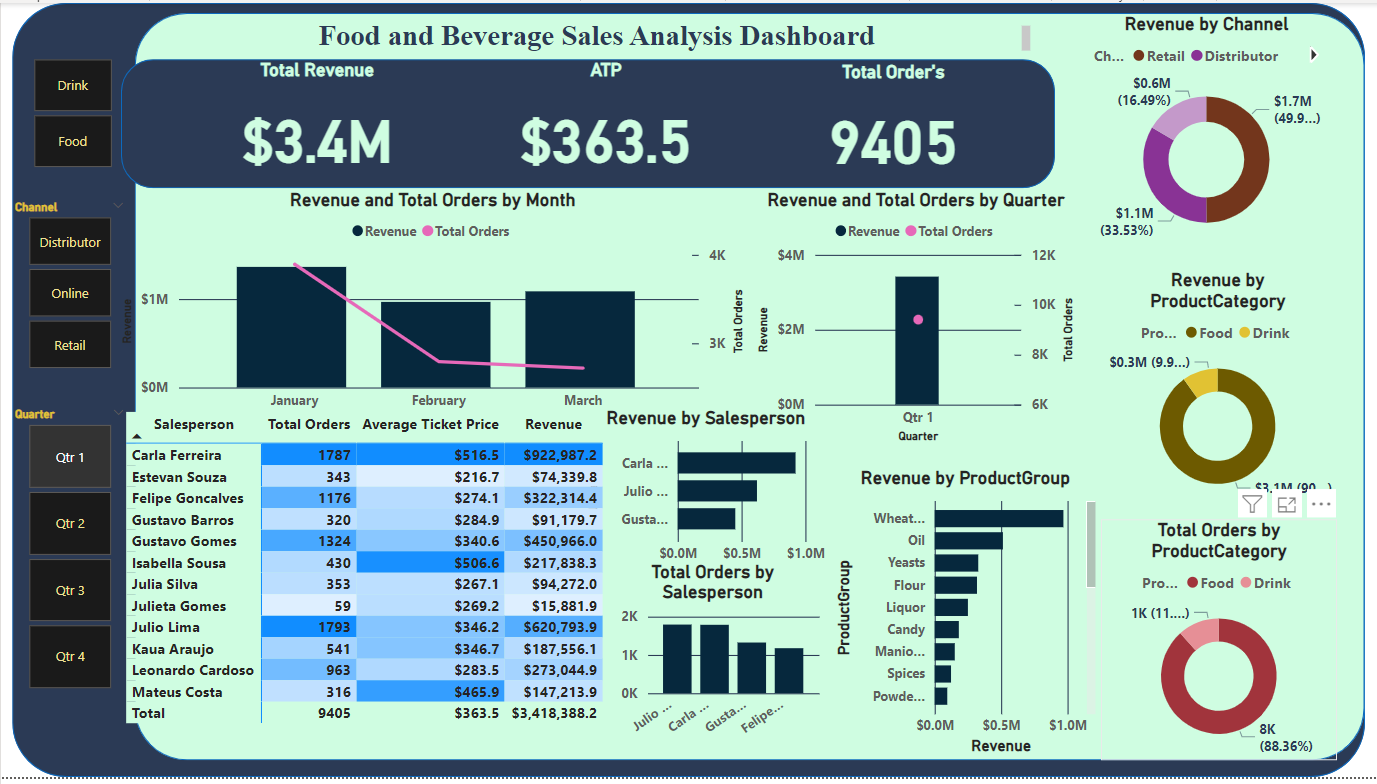

The dashboard page shown, as its layout file describes it:
{"tool":"powerbi","page":{"name":"Page 1","canvas":[1280,720],"ordinal":0},"visuals":[{"type":"shape","box":[10.5,0,1258.1,719.8],"z":0},{"type":"shape","box":[124.4,9.3,1144.2,695.4],"z":1000},{"type":"shape","box":[111.6,52.3,868.6,119.8],"z":2000},{"type":"card","title":"Total Revenue","fields":{"Values":["Product.Revenue"]},"box":[144.2,52.3,300,119.8],"z":3000},{"type":"card","title":"ATP","fields":{"Values":["Product.Average Ticket Price"]},"box":[412.2,52.3,300,119.8],"z":4000},{"type":"card","title":"Total Order''s","fields":{"Values":["Product.Total Orders"]},"box":[680.2,53.5,300,119.8],"z":5000},{"type":"donutChart","fields":{"Y":["Product.Revenue"],"Category":["Sheet1.Channel"]},"box":[1011.6,9.3,219.8,224.4],"z":6000},{"type":"donutChart","fields":{"Y":["Product.Revenue"],"Category":["Product.ProductCategory"]},"box":[1022.1,247.7,219.8,224.4],"z":7000},{"type":"donutChart","fields":{"Category":["Product.ProductCategory"],"Y":["Product.Total Orders"]},"box":[1023.3,480.2,219.8,224.4],"z":8000},{"type":"lineClusteredColumnComboChart","fields":{"Y":["Product.Revenue"],"Y2":["Product.Total Orders"],"Category":["Sheet1.OrderDate.Variation.Date Hierarchy.Quarter"]},"box":[698.5,172.9,304.6,240.1],"z":9000},{"type":"barChart","fields":{"Y":["Product.Revenue"],"Category":["Product.ProductGroup"]},"box":[770.9,431.4,252.3,273.3],"z":10000},{"type":"lineClusteredColumnComboChart","fields":{"Y":["Product.Revenue"],"Y2":["Product.Total Orders"],"Category":["Sheet1.OrderDate.Variation.Date Hierarchy.Month"]},"box":[107,173.3,589.5,224.4],"z":11000},{"type":"barChart","fields":{"Y":["Product.Revenue"],"Category":["Sheet1.Salesperson"]},"box":[540.7,375.6,230.2,154.7],"z":12000},{"type":"clusteredColumnChart","fields":{"Y":["Product.Total Orders"],"Category":["Sheet1.Salesperson"]},"box":[558.1,518.6,208.1,174.4],"z":12001},{"type":"pivotTable","fields":{"Rows":["Sheet1.Salesperson"],"Values":["Product.Total Orders","Product.Average Ticket Price","Product.Revenue"]},"box":[111.6,375.6,459.3,317.4],"z":12002},{"type":"slicer","fields":{"Values":["Product.ProductCategory"]},"box":[4.1,45.3,122.1,113.9],"z":12003},{"type":"slicer","fields":{"Values":["Sheet1.Channel"]},"box":[0,178.4,126.2,168.8],"z":12004},{"type":"slicer","fields":{"Values":["Sheet1.OrderDate.Variation.Date Hierarchy.Quarter"]},"box":[0,370.9,126.7,273.3],"z":12005},{"type":"textbox","box":[153.5,16.3,809.3,36],"z":12006}]}

Visuals, with their boxes in screenshot pixels (x1, y1, x2, y2), scaled from the page's 1280x720 canvas onto the 1377x784 screenshot:
shape: (left=11, top=0, right=1365, bottom=783)
shape: (left=134, top=10, right=1365, bottom=767)
shape: (left=120, top=57, right=1054, bottom=187)
"Total Revenue" card: (left=155, top=57, right=478, bottom=187)
"ATP" card: (left=443, top=57, right=766, bottom=187)
"Total Order''s" card: (left=732, top=58, right=1054, bottom=189)
donutChart - Product.Revenue x Sheet1.Channel: (left=1088, top=10, right=1325, bottom=254)
donutChart - Product.Revenue x Product.ProductCategory: (left=1100, top=270, right=1336, bottom=514)
donutChart - Product.ProductCategory x Product.Total Orders: (left=1101, top=523, right=1337, bottom=767)
lineClusteredColumnComboChart - Product.Revenue x Product.Total Orders: (left=751, top=188, right=1079, bottom=450)
barChart - Product.Revenue x Product.ProductGroup: (left=829, top=470, right=1101, bottom=767)
lineClusteredColumnComboChart - Product.Revenue x Product.Total Orders: (left=115, top=189, right=749, bottom=433)
barChart - Product.Revenue x Sheet1.Salesperson: (left=582, top=409, right=829, bottom=577)
clusteredColumnChart - Product.Total Orders x Sheet1.Salesperson: (left=600, top=565, right=824, bottom=755)
pivotTable - Sheet1.Salesperson x Product.Total Orders: (left=120, top=409, right=614, bottom=755)
slicer - Product.ProductCategory: (left=4, top=49, right=136, bottom=173)
slicer - Sheet1.Channel: (left=0, top=194, right=136, bottom=378)
slicer - Sheet1.OrderDate.Variation.Date Hierarchy.Quarter: (left=0, top=404, right=136, bottom=701)
textbox: (left=165, top=18, right=1036, bottom=57)
